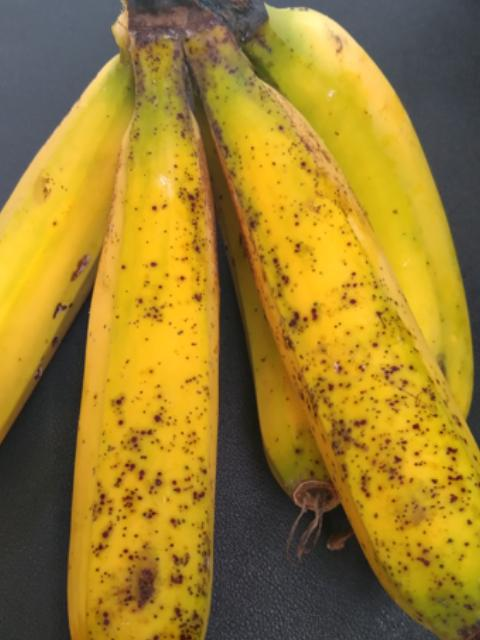ripe: (178, 73, 479, 639), (53, 104, 279, 639)
